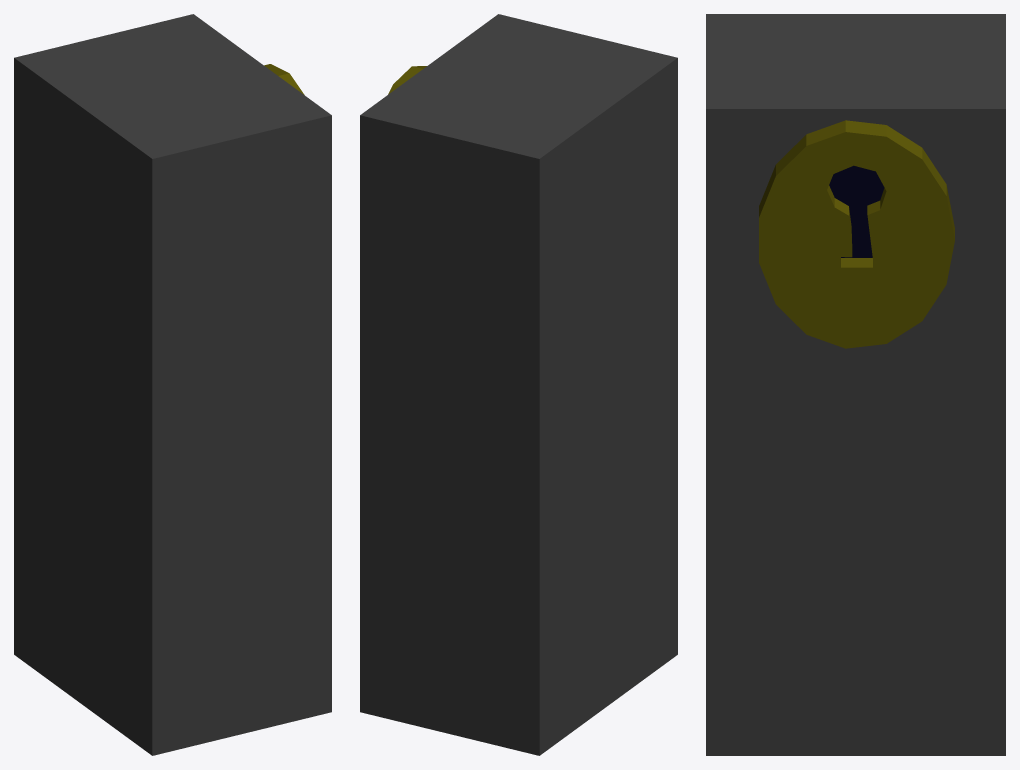
The model's file is BridgeLock.fbx.
The picture shows the model from 3 angles, left to right: view 1: azimuth 30°, elevation 25°; view 2: azimuth 150°, elevation 25°; view 3: azimuth 270°, elevation 25°; orthographic projection. The views are drawn at different scales.
Visible parts, largest first — view 1: BridgeLock; view 2: BridgeLock; view 3: BridgeLock.
Part boxes in pixels (x1,y1,x2,y2): BridgeLock: [14, 14, 331, 755]; BridgeLock: [360, 14, 677, 755]; BridgeLock: [706, 14, 1005, 755].
Bounding box in the file's own units: 168 × 476 × 200.
